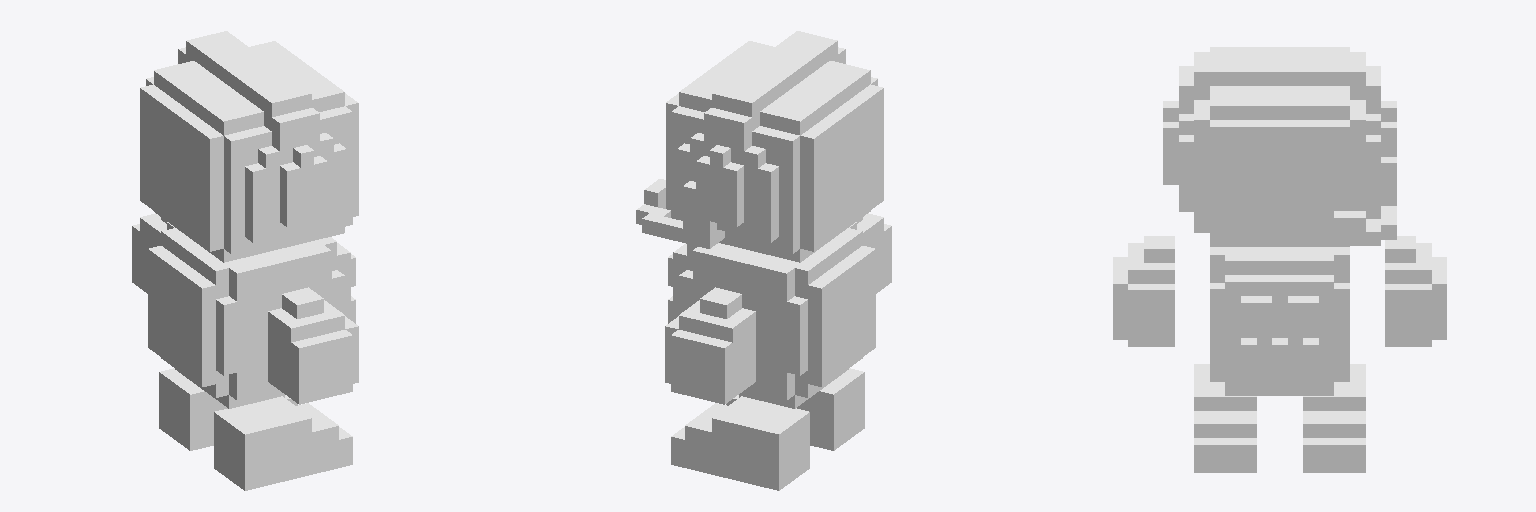
Rendered from Player.obj.
3 views of the same model, side by side, from view 1: azimuth 30°, elevation 25°; view 2: azimuth 150°, elevation 25°; view 3: azimuth 270°, elevation 25° (orthographic).
Parts seen in each view (by area): view 1: Player_Head, player_Body, player_Lefthand001, player_LeftHand, player_RightHand, player_Right; view 2: Player_Head, player_Body, player_RightHand, player_Right, player_Lefthand001, player_LeftHand; view 3: Player_Head, player_Body, player_LeftHand, player_Right, player_RightHand, player_Lefthand001.
Part boxes in pixels (x1,y1,x2,y2): Player_Head: (140,31,358,262); player_Body: (148,222,355,408); player_Lefthand001: (214,396,352,490); player_LeftHand: (268,287,358,404); player_RightHand: (159,368,297,450); player_Right: (132,213,166,293); Player_Head: (636,31,883,262); player_Body: (668,222,875,408); player_RightHand: (671,396,809,490); player_Right: (665,287,755,404); player_Lefthand001: (726,368,864,450); player_LeftHand: (857,213,891,293); Player_Head: (1163,47,1396,246); player_Body: (1210,247,1349,395); player_LeftHand: (1113,236,1174,346); player_Right: (1385,236,1446,346); player_RightHand: (1303,364,1365,472); player_Lefthand001: (1194,364,1256,472).
Bounding box in the file's own units: 1.2 × 2.7 × 2.15.